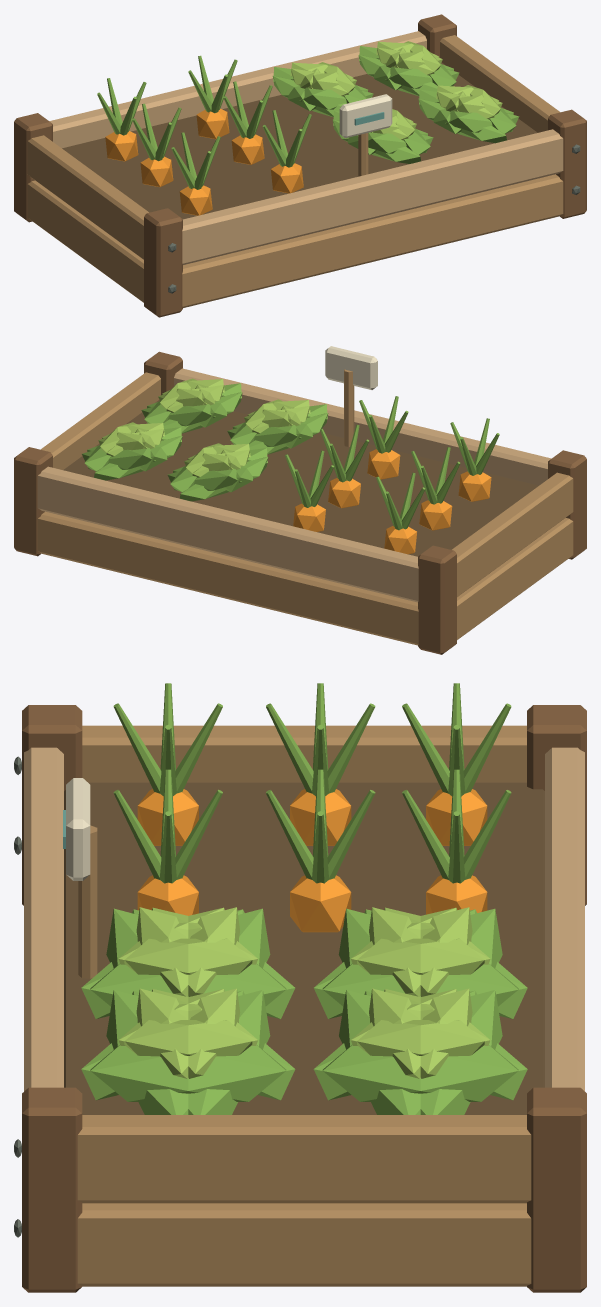
The model's file is farm_art_raised_bed.glb.
3 views of the same model, one above another, from view 1: azimuth 30°, elevation 25°; view 2: azimuth 150°, elevation 25°; view 3: azimuth 270°, elevation 25° (orthographic). The views are drawn at different scales.
Visible parts, largest first — view 1: Closed base of soil, Long bed boards.002, Long bed boards, Long bed boards.003, End bed boards.002, End bed boards, End bed boards.003, Bed corner post, Bed corner post.002, Bed corner post.001, Cream plant marker, Bed corner post.003 (+20 smaller); view 2: Closed base of soil, Long bed boards.003, Long bed boards.001, Long bed boards.002, End bed boards.002, End bed boards, Bed corner post.001, End bed boards.003, Bed corner post.003, Bed corner post, Cream plant marker, Bed corner post.002 (+19 smaller); view 3: Closed base of soil, End bed boards.003, End bed boards.001, End bed boards.002, Long bed boards.003, Long bed boards.002, Bed corner post.002, Bed corner post.003, Lettuce outer leaves.015, Lettuce outer leaves.010, Lettuce heart, Lettuce heart.005 (+49 smaller).
Part boxes in pixels (x1,y1,x2,y2): Closed base of soil: (62, 62, 537, 219); Long bed boards.002: (182, 129, 563, 264); Long bed boards: (182, 174, 563, 307); Long bed boards.003: (49, 31, 426, 148); End bed boards.002: (27, 135, 148, 259); End bed boards: (27, 180, 143, 302); End bed boards.003: (440, 35, 559, 132); Bed corner post: (144, 208, 182, 317); Bed corner post.002: (548, 109, 586, 218); Bed corner post.001: (14, 113, 52, 222); Cream plant marker: (339, 94, 392, 138); Bed corner post.003: (418, 14, 456, 57); Closed base of soil: (63, 400, 538, 556); Long bed boards.003: (37, 466, 418, 602); Long bed boards.001: (37, 511, 418, 645); Long bed boards.002: (174, 368, 551, 485); End bed boards.002: (452, 472, 573, 596); End bed boards: (457, 518, 573, 639); Bed corner post.001: (418, 545, 456, 654); End bed boards.003: (41, 372, 160, 469); Bed corner post.003: (14, 447, 52, 556); Bed corner post: (548, 450, 586, 559); Cream plant marker: (325, 346, 377, 389); Bed corner post.002: (144, 351, 182, 395); Closed base of soil: (64, 782, 544, 1114); End bed boards.003: (77, 1115, 531, 1203); End bed boards.001: (77, 1203, 531, 1286); End bed boards.002: (82, 725, 526, 782); Long bed boards.003: (545, 747, 584, 1091); Long bed boards.002: (24, 747, 63, 1091); Bed corner post.002: (22, 1087, 82, 1292); Bed corner post.003: (527, 1087, 586, 1292); Lettuce outer leaves.015: (322, 1045, 518, 1101); Lettuce outer leaves.010: (90, 1045, 286, 1101); Lettuce heart: (124, 938, 252, 974); Lettuce heart.005: (357, 938, 484, 974).
Bounding box in the file's own units: 2.41 × 0.825 × 1.43.
